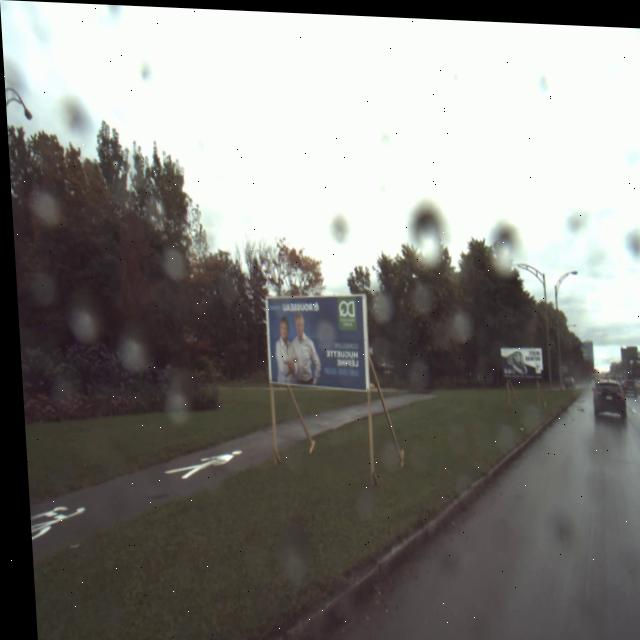car: (587, 374, 623, 416), (621, 372, 634, 393)
